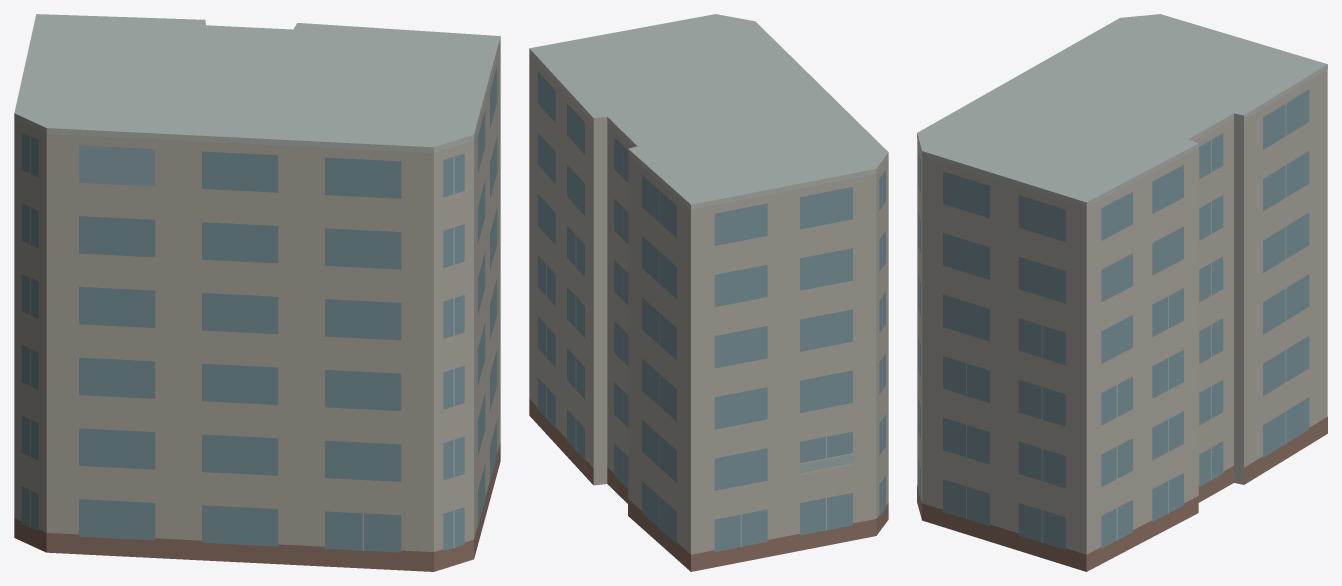
The model's file is survey-upis-32577451.glb.
The picture shows the model from 3 angles, left to right: view 1: azimuth 30°, elevation 25°; view 2: azimuth 150°, elevation 25°; view 3: azimuth 270°, elevation 25°; orthographic projection. The views are drawn at different scales.
Visible parts, largest first — view 1: survey-upis-32577451.tmp; view 2: survey-upis-32577451.tmp; view 3: survey-upis-32577451.tmp.
Part boxes in pixels (bbox=[...]): survey-upis-32577451.tmp: bbox=[14, 14, 500, 571]; survey-upis-32577451.tmp: bbox=[529, 14, 888, 571]; survey-upis-32577451.tmp: bbox=[917, 14, 1327, 571].
Size of the model in its own units: 19.75 by 18.05 by 18.19.
